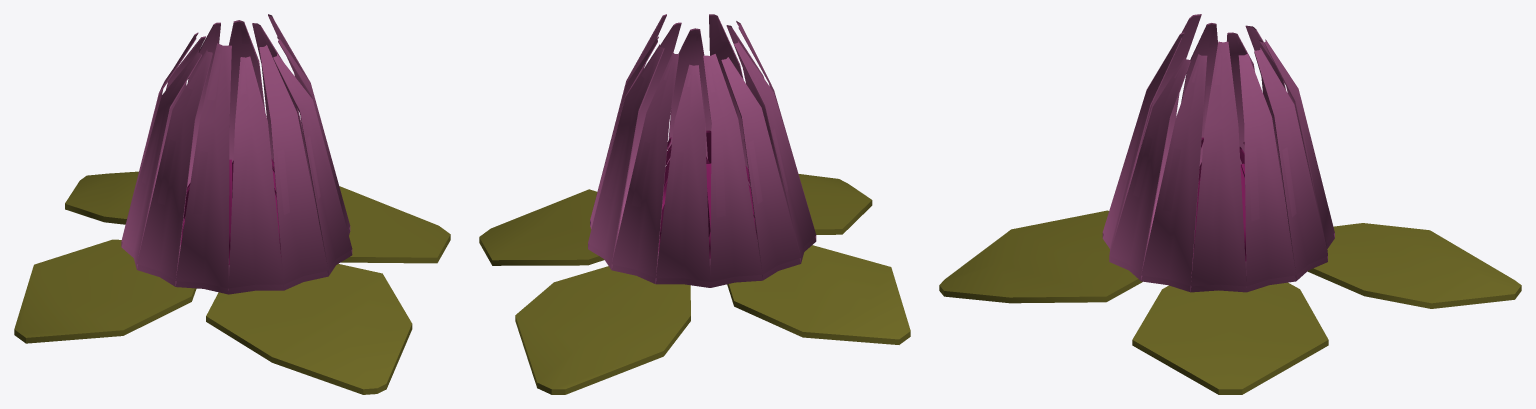
File: Broto.fbx
3 views of the same model, side by side, from view 1: azimuth 30°, elevation 25°; view 2: azimuth 150°, elevation 25°; view 3: azimuth 270°, elevation 25° (orthographic).
Visible parts, largest first — view 1: pCylinder8, polySurface6, pCylinder9; view 2: pCylinder8, polySurface6, pCylinder9; view 3: pCylinder8, polySurface6, pCylinder9.
Boxes of the visible parts, <box> form: pCylinder8: <box>121,14,352,294</box>; polySurface6: <box>14,171,450,394</box>; pCylinder9: <box>180,158,281,264</box>; pCylinder8: <box>588,14,816,287</box>; polySurface6: <box>479,174,910,394</box>; pCylinder9: <box>658,130,757,258</box>; pCylinder8: <box>1102,14,1334,292</box>; polySurface6: <box>939,210,1521,394</box>; pCylinder9: <box>1193,137,1246,261</box>.
Size of the model in its own units: 413 by 247 by 490.
